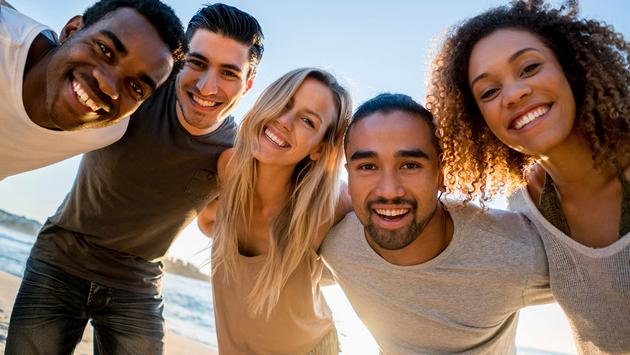bare: (346, 175, 436, 248), (41, 50, 121, 130), (483, 84, 570, 156), (173, 81, 239, 131), (248, 120, 310, 166)
